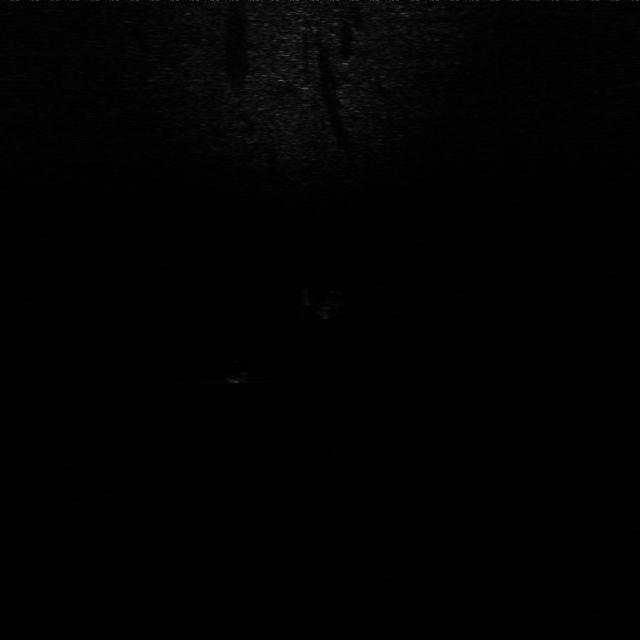ball: (218, 359, 256, 385)
human body: (298, 288, 347, 322)
